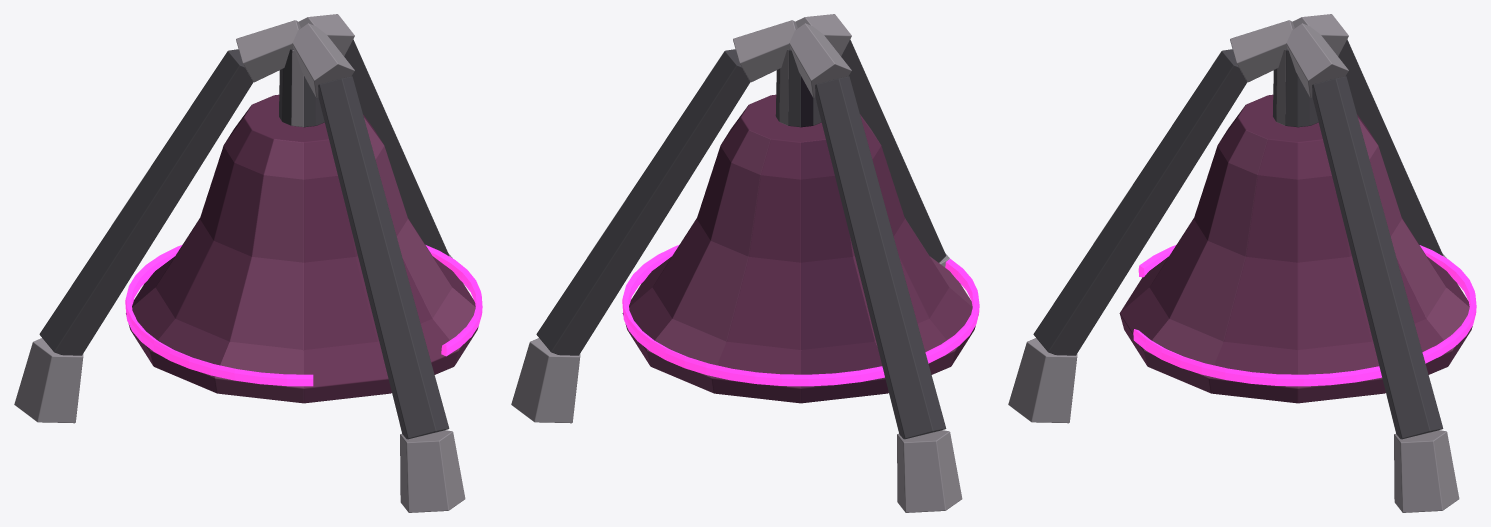
The model's file is Bell.fbx.
The picture shows the model from 3 angles, left to right: view 1: azimuth 30°, elevation 25°; view 2: azimuth 150°, elevation 25°; view 3: azimuth 270°, elevation 25°; orthographic projection.
Visible parts, largest first — view 1: Armor 3, Armor 4, Armor 6, Armor 2, Armor 1, Armor 5; view 2: Armor 3, Armor 2, Armor 4, Armor 1, Armor 6; view 3: Armor 3, Armor 2, Armor 6, Armor 1, Armor 4, Armor 5.
Boxes of the visible parts, <box> form: Armor 3: <box>14,94,478,423</box>; Armor 4: <box>39,20,354,355</box>; Armor 6: <box>318,76,449,439</box>; Armor 2: <box>279,14,449,255</box>; Armor 1: <box>125,245,482,386</box>; Armor 5: <box>400,430,465,512</box>; Armor 3: <box>622,94,975,512</box>; Armor 2: <box>536,20,821,355</box>; Armor 4: <box>789,14,946,439</box>; Armor 1: <box>511,244,979,423</box>; Armor 6: <box>841,39,946,262</box>; Armor 3: <box>1119,94,1472,403</box>; Armor 2: <box>1273,23,1443,439</box>; Armor 6: <box>1033,49,1247,355</box>; Armor 1: <box>1133,245,1476,512</box>; Armor 4: <box>1230,14,1443,255</box>; Armor 5: <box>1008,338,1077,423</box>.
Size of the model in its own units: 0.1398 by 0.1213 by 0.1305.
